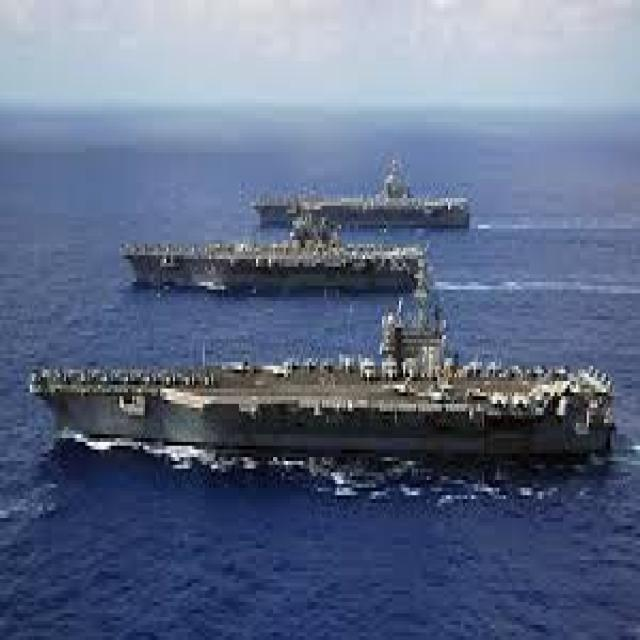navalvessels: (26, 259, 608, 467), (121, 222, 416, 276), (252, 156, 466, 228)
